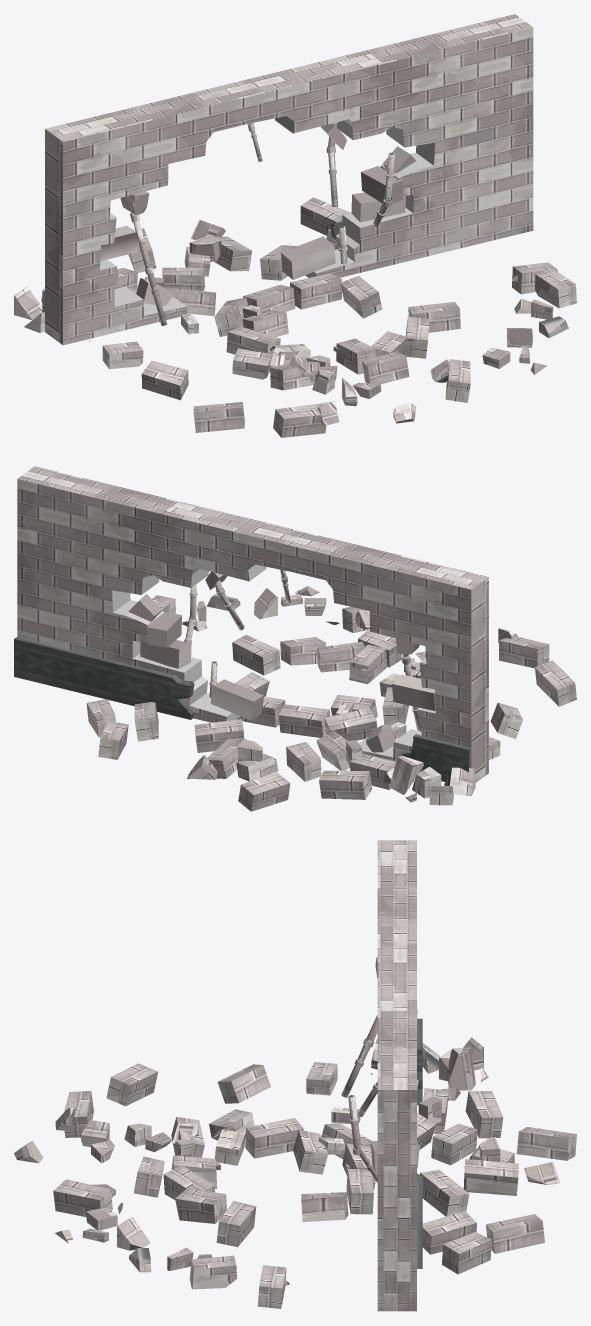
Rendered from WallDestroyed.fbx.
3 views of the same model, one above another, from view 1: azimuth 30°, elevation 25°; view 2: azimuth 150°, elevation 25°; view 3: azimuth 270°, elevation 25° (orthographic). The views are drawn at different scales.
Visible parts, largest first — view 1: WallDestroyedMain, Debris, PipeDebris; view 2: WallDestroyedMain, Debris, WallWood, PipeDebris; view 3: Debris, WallDestroyedMain, PipeDebris, WallWood.
Part boxes in pixels (x1,y1,x2,y2): WallDestroyedMain: (45,14,533,345); Debris: (14,197,576,437); PipeDebris: (100,122,415,325); WallDestroyedMain: (17,466,488,782); Debris: (86,586,576,811); WallWood: (14,637,471,781); PipeDebris: (128,569,435,764); Debris: (14,1037,576,1308); WallDestroyedMain: (377,840,416,1311); PipeDebris: (341,956,441,1182); WallWood: (416,1018,423,1268).
Size of the model in its own units: 1536 by 667 by 1429.
